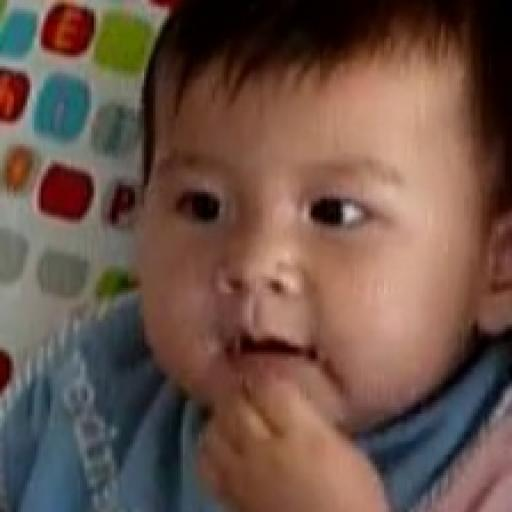Autism: (120, 24, 484, 463)
